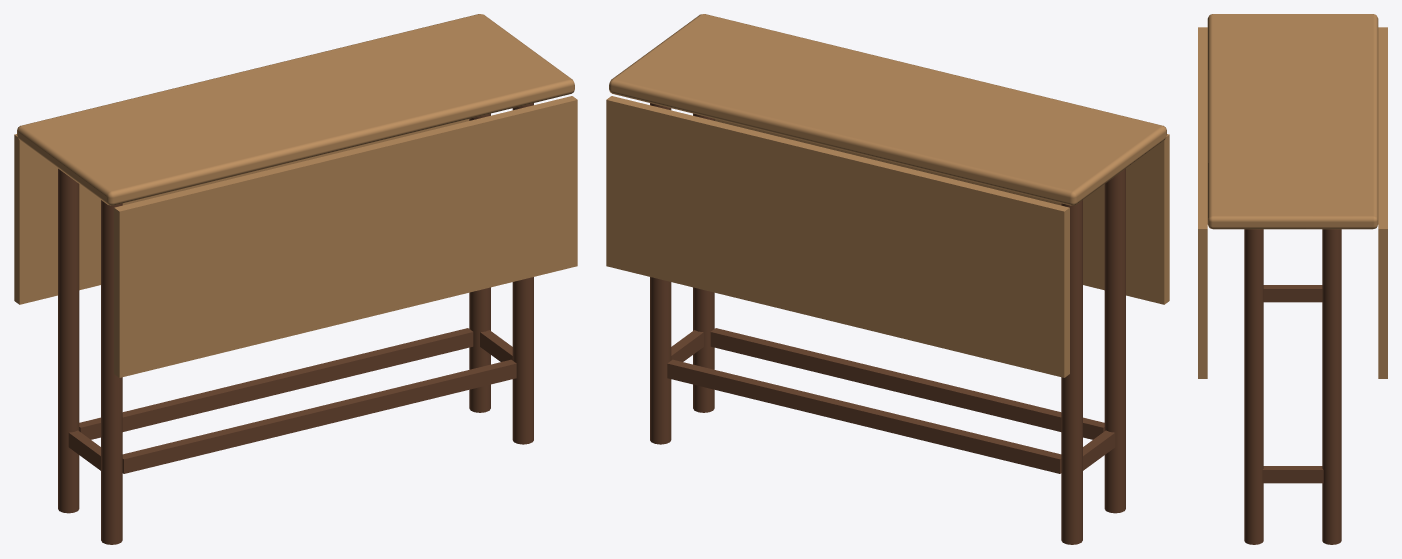
The picture shows the model from 3 angles, left to right: view 1: azimuth 30°, elevation 25°; view 2: azimuth 150°, elevation 25°; view 3: azimuth 270°, elevation 25°; orthographic projection. The views are drawn at different scales.
Visible parts, largest first — view 1: top, leg-1; view 2: top, leg-1; view 3: top, leg-1.
Boxes of the visible parts, x1,y1,x2,y2 form: top: [14, 14, 577, 377]; leg-1: [58, 103, 533, 544]; top: [606, 14, 1169, 377]; leg-1: [650, 103, 1125, 544]; top: [1198, 14, 1387, 378]; leg-1: [1244, 229, 1341, 544].
Bounding box in the file's own units: 1 × 0.76 × 0.39.
